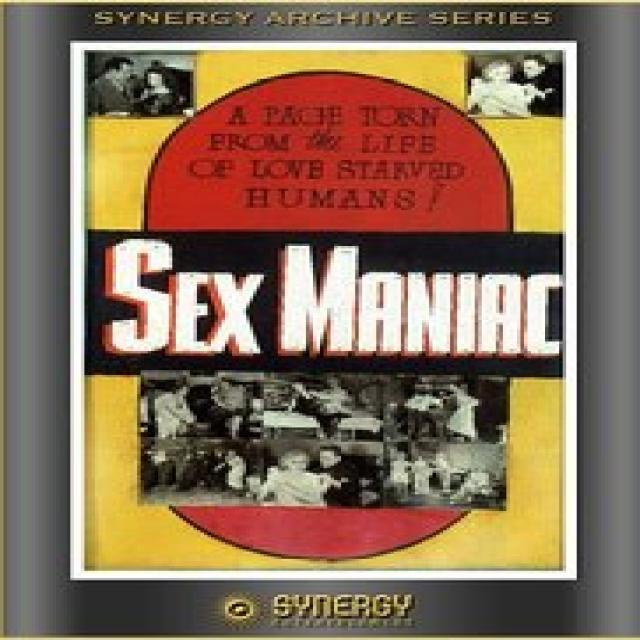movie-judul: (88, 229, 562, 376)
picture: (141, 370, 507, 510), (86, 49, 193, 116), (466, 51, 562, 118)
